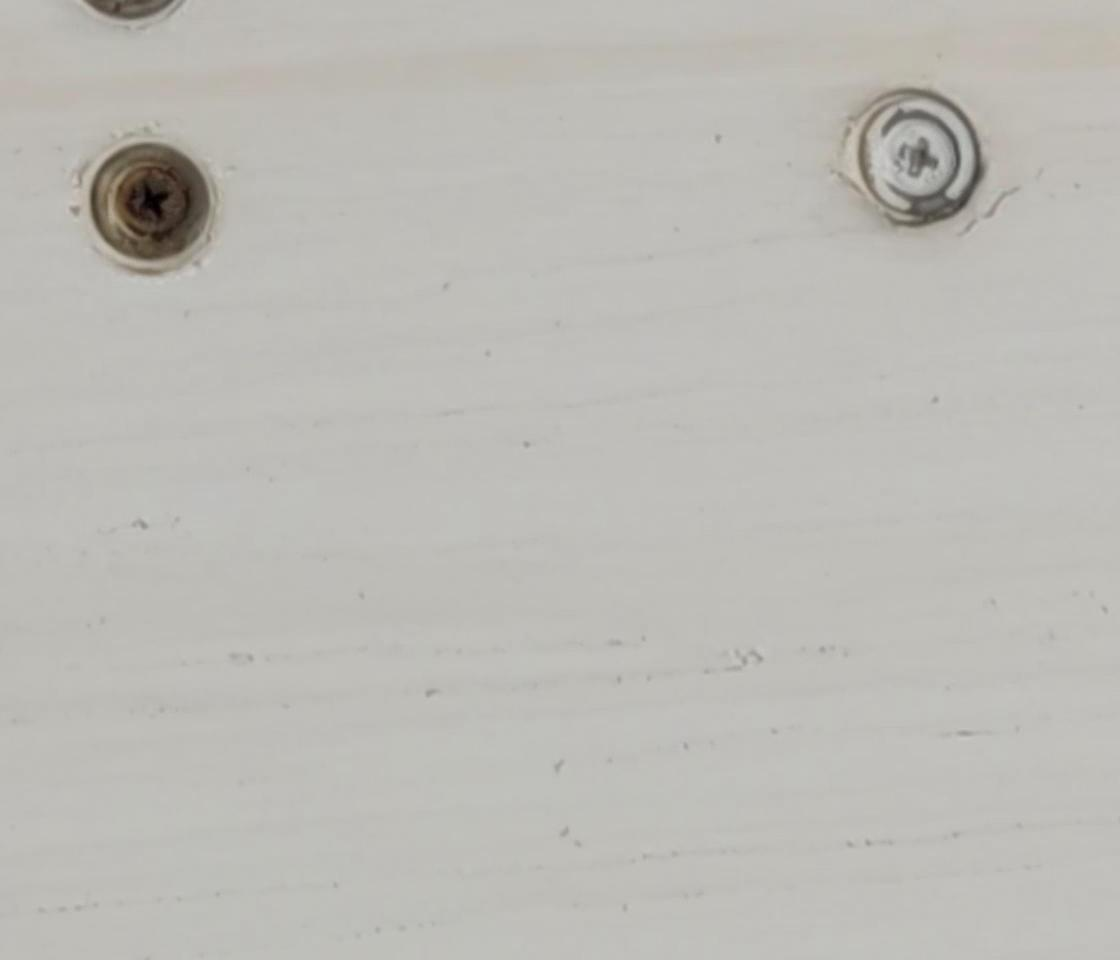rivet_damage: (76, 132, 217, 278)
